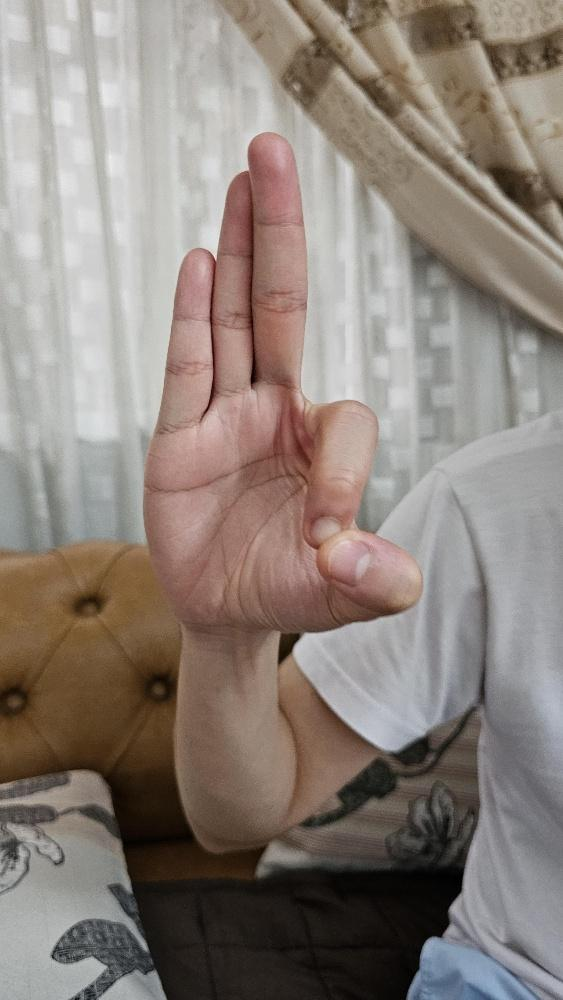f: (139, 128, 425, 634)
